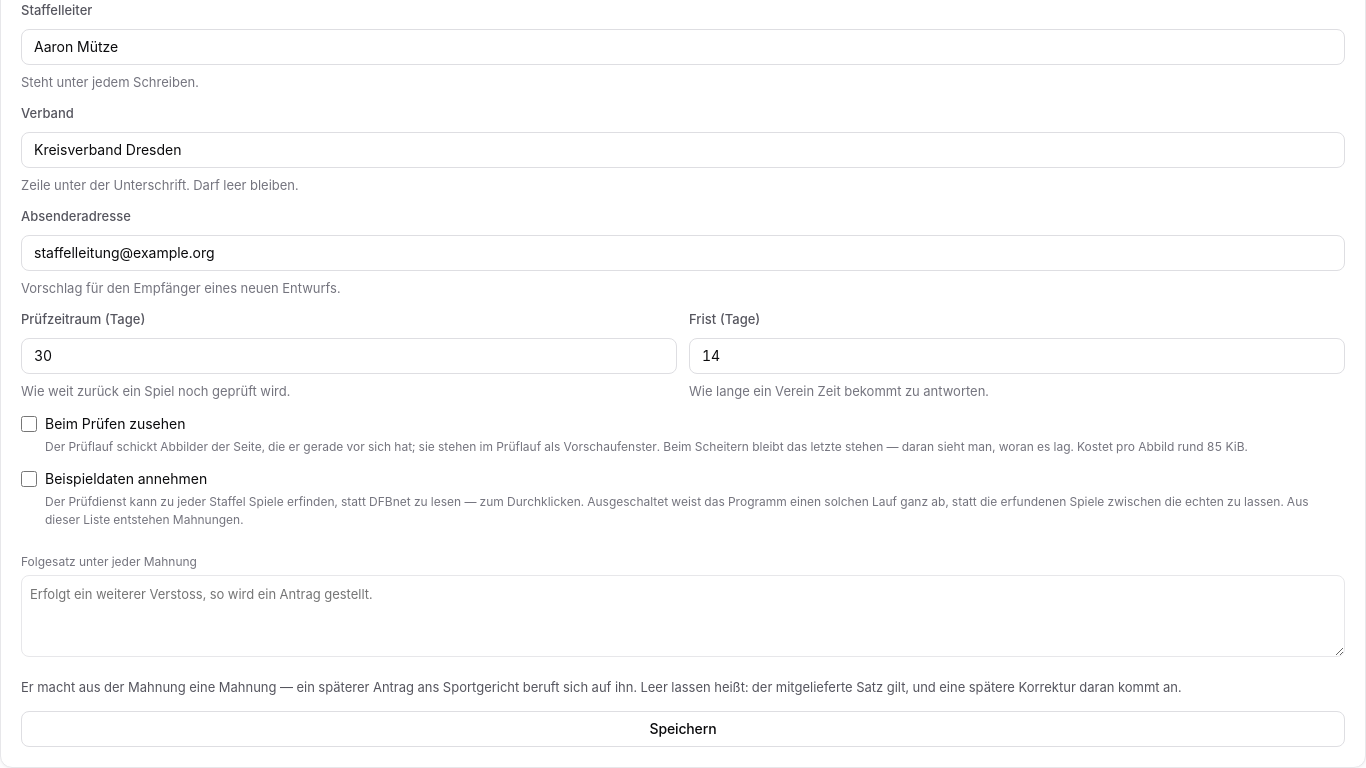
it: Einstellungen › zeigt die Meldung des Backends, statt sie zu verschlucken
(page scrolled)
Expected: the field labelled "Staffelleiter" is shown, [21,28,1345,64]
Click the button "Speichern".
click(683, 729)  # box [21,711,1345,747]
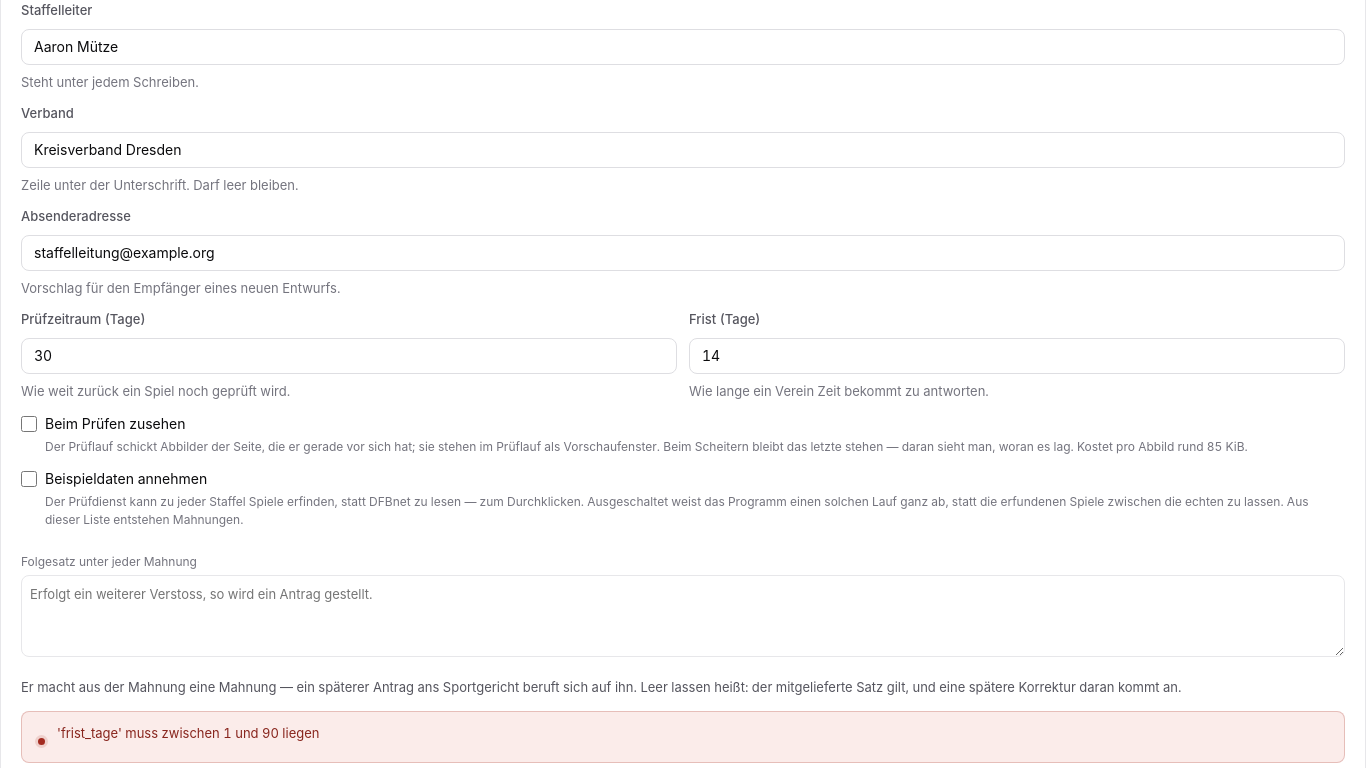
Result: the message shows "zwischen 1 und 90" at [57,725,320,741]
